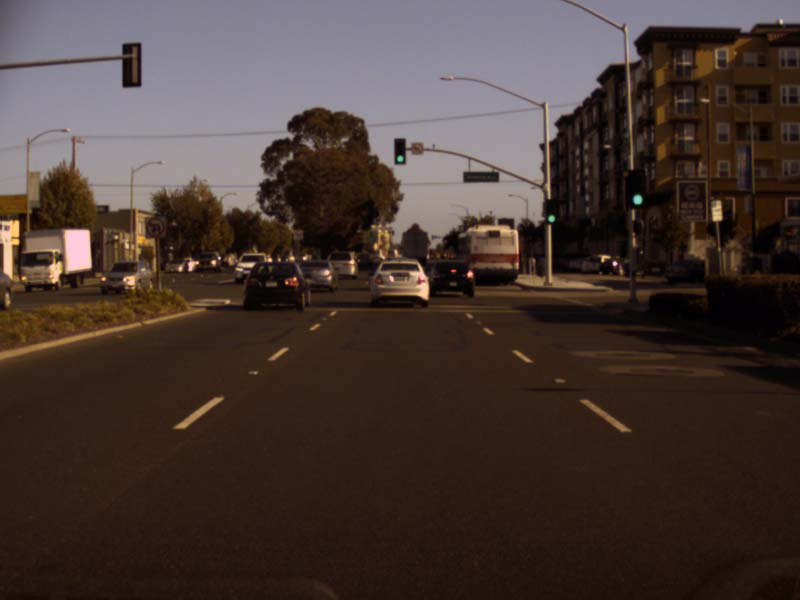Green: (626, 168, 644, 208), (393, 137, 405, 164), (546, 199, 557, 223)
